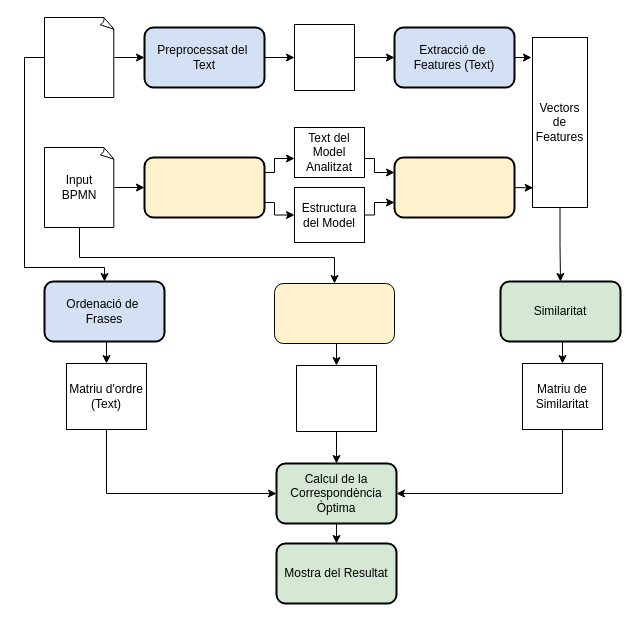
The diagram is 639 pixels wide and 622 high, and some of its shapes have lost their labels. Each missing label, with the centre of its shape:
Extracció de Features (Model): point 454,187
Matriu d'Ordre (Model): point 336,398
Ordenació de Tasques: point 334,313
Preprocessat del Model: point 204,187
Text Analitzat: point 324,57
Text d'Entrada: point 79,57
